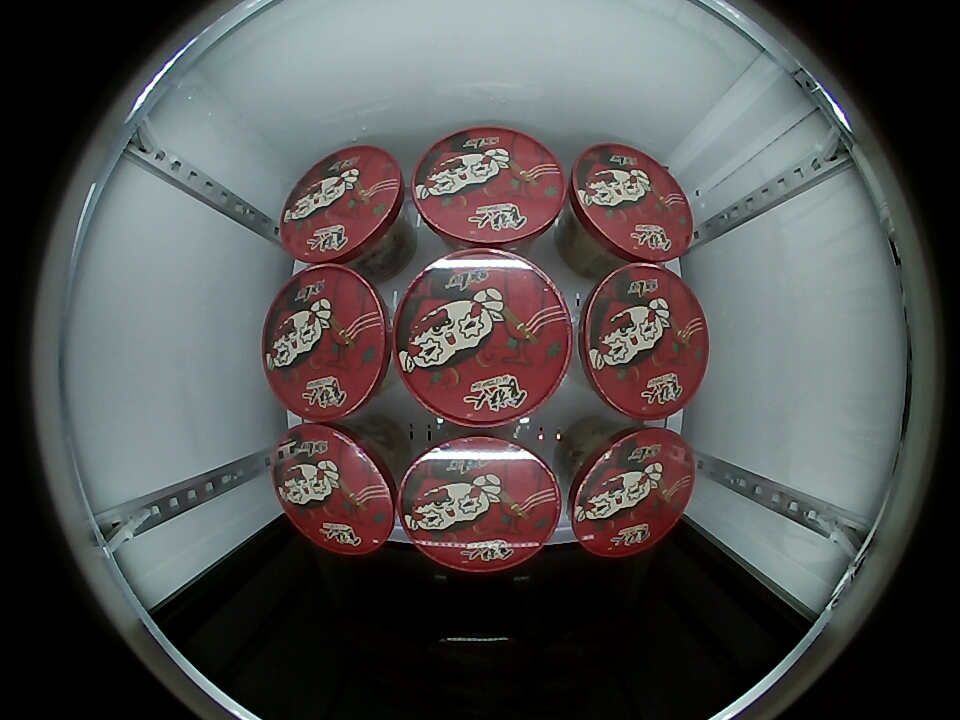suanlafen: (392, 249, 573, 430), (398, 431, 563, 573), (575, 263, 710, 421), (262, 264, 394, 422), (410, 128, 568, 249), (567, 424, 696, 557), (272, 423, 399, 555), (279, 145, 407, 266), (568, 143, 694, 265)
